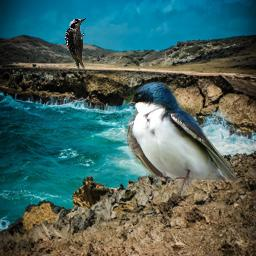Swallow: (124, 80, 240, 197)
Woodpecker: (63, 15, 88, 72)
